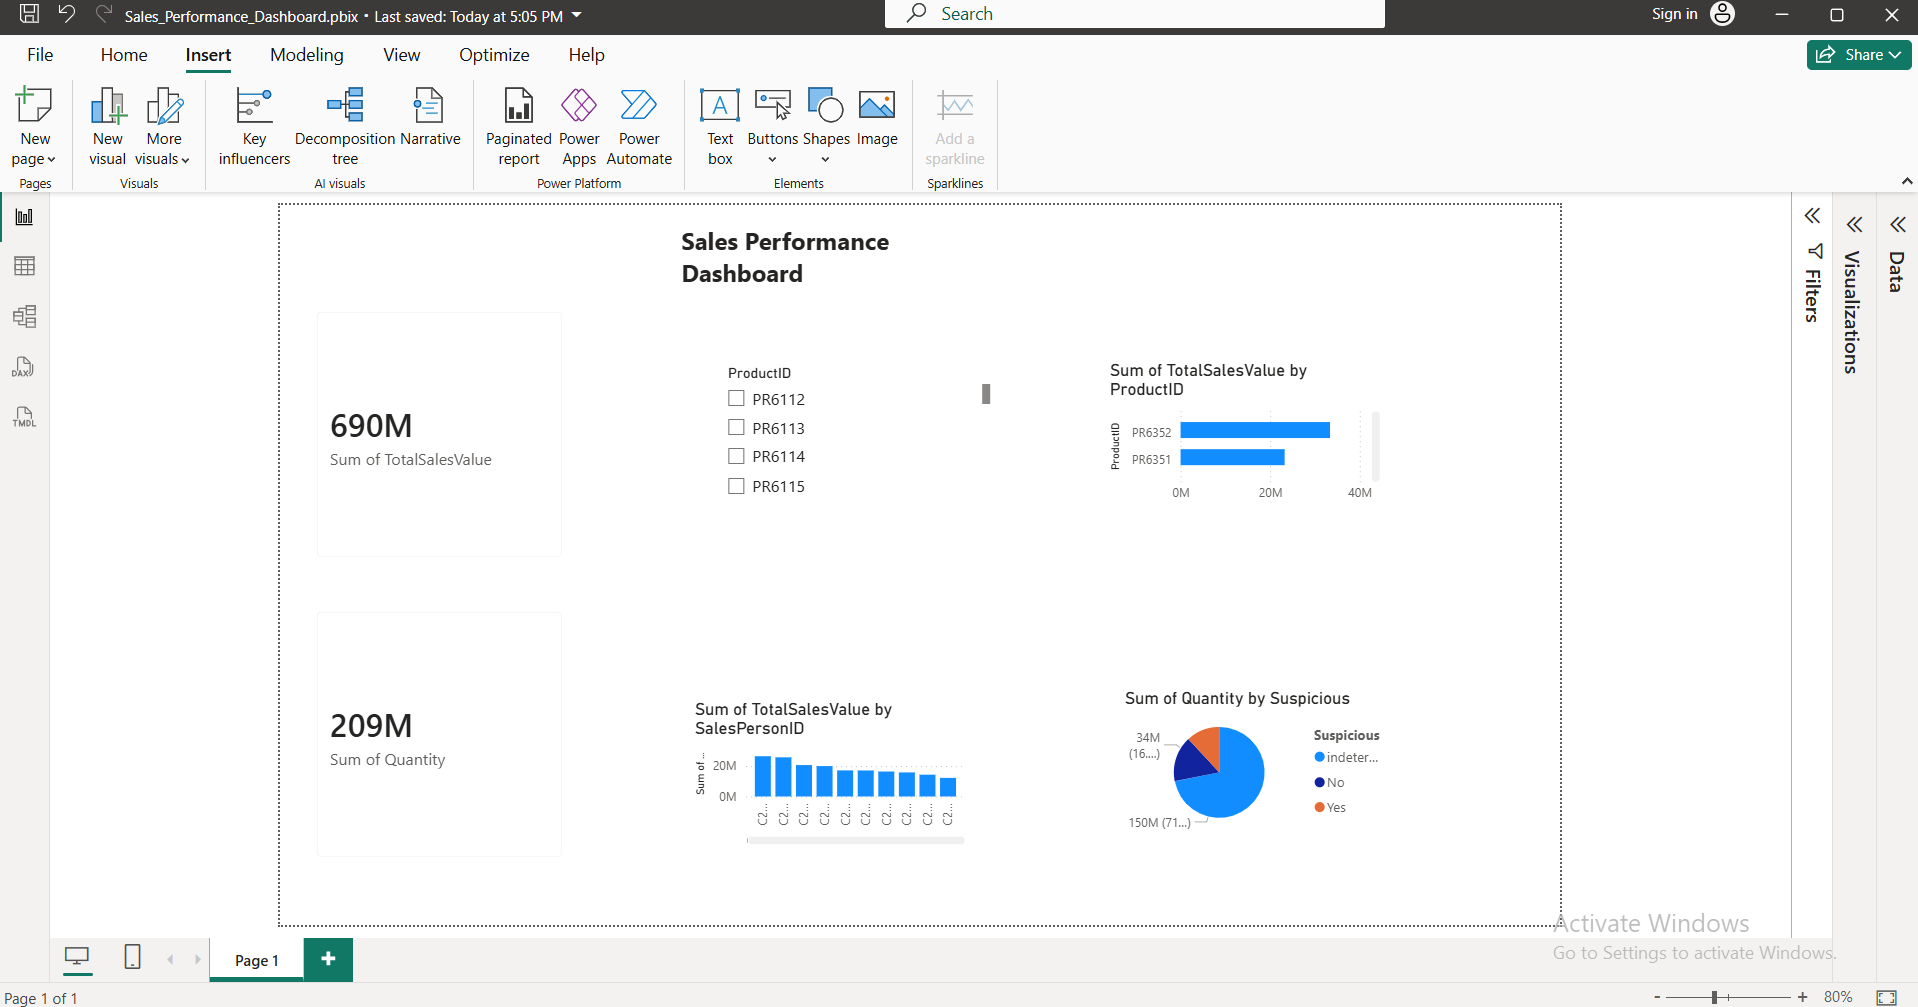

What the dashboard file says about the page in this screenshot:
{"tool":"powerbi","page":{"name":"Page 1","canvas":[1280,720],"ordinal":0},"visuals":[{"type":"cardVisual","fields":{"Data":["Sum(Sheet 1.TotalSalesValue)"]},"box":[20.6,90.6,279.9,279.9],"z":0},{"type":"cardVisual","fields":{"Data":["Sum(Sheet 1.Quantity)"]},"box":[20.6,389.7,279.9,279.9],"z":1000},{"type":"slicer","fields":{"Values":["Sheet 1.ProductID"]},"box":[435,155.1,279.9,150.9],"z":2000},{"type":"clusteredBarChart","fields":{"Category":["Sheet 1.ProductID"],"Y":["Sum(Sheet 1.TotalSalesValue)"]},"box":[838.9,143.1,280,150.4],"z":3000},{"type":"clusteredColumnChart","fields":{"Category":["Sheet 1.SalesPersonID"],"Y":["Sum(Sheet 1.TotalSalesValue)"]},"box":[410.3,494,279.9,150.9],"z":4000},{"type":"pieChart","fields":{"Category":["Sheet 1.Suspicious"],"Y":["Sum(Sheet 1.Quantity)"]},"box":[839.8,483,279.9,150.9],"z":5000},{"type":"textbox","box":[396.6,15.1,230.5,75.5],"z":6000}]}

Visuals, with their boxes on the page's 1280x720 design canvas (x1, y1, x2, y2). These are canvas units, not pixel positions in the 1918x1007 screenshot, which may show the page scaled, cropped or inside an application window:
cardVisual - Sum(Sheet 1.TotalSalesValue): 21:91:300:370
cardVisual - Sum(Sheet 1.Quantity): 21:390:300:670
slicer - Sheet 1.ProductID: 435:155:715:306
clusteredBarChart - Sheet 1.ProductID x Sum(Sheet 1.TotalSalesValue): 839:143:1119:294
clusteredColumnChart - Sheet 1.SalesPersonID x Sum(Sheet 1.TotalSalesValue): 410:494:690:645
pieChart - Sheet 1.Suspicious x Sum(Sheet 1.Quantity): 840:483:1120:634
textbox: 397:15:627:91
